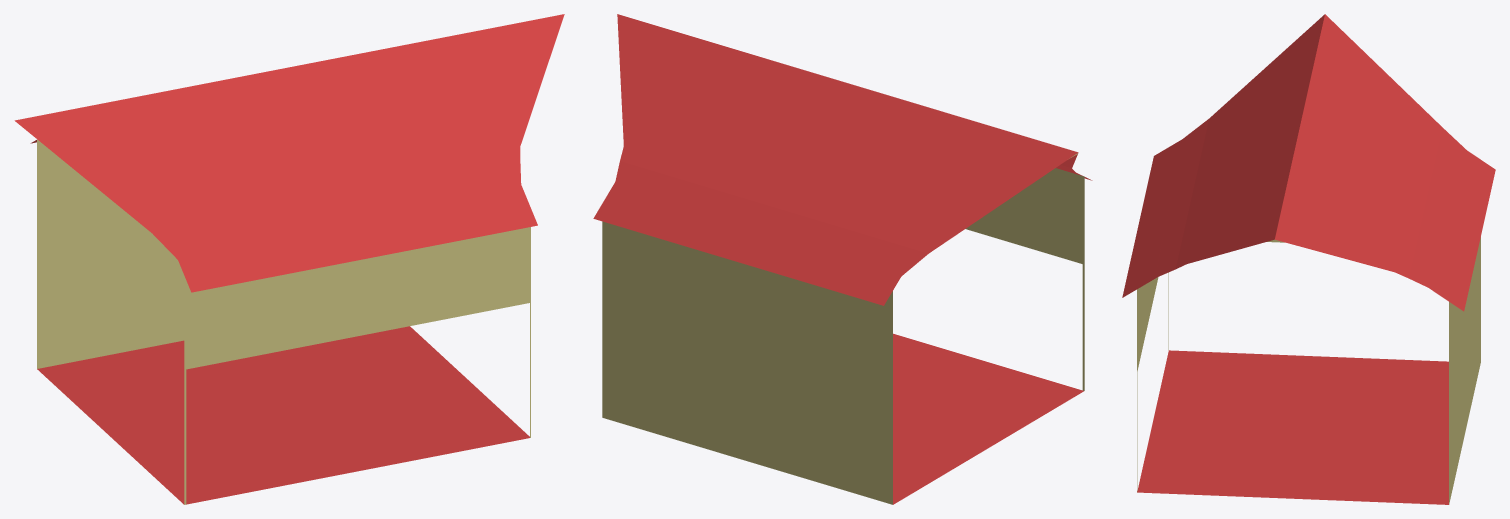
The picture shows the model from 3 angles, left to right: view 1: azimuth 30°, elevation 25°; view 2: azimuth 150°, elevation 25°; view 3: azimuth 270°, elevation 25°; orthographic projection. The views are drawn at different scales.
Bounding box in the file's own units: 26.71 × 18.69 × 16.62.
